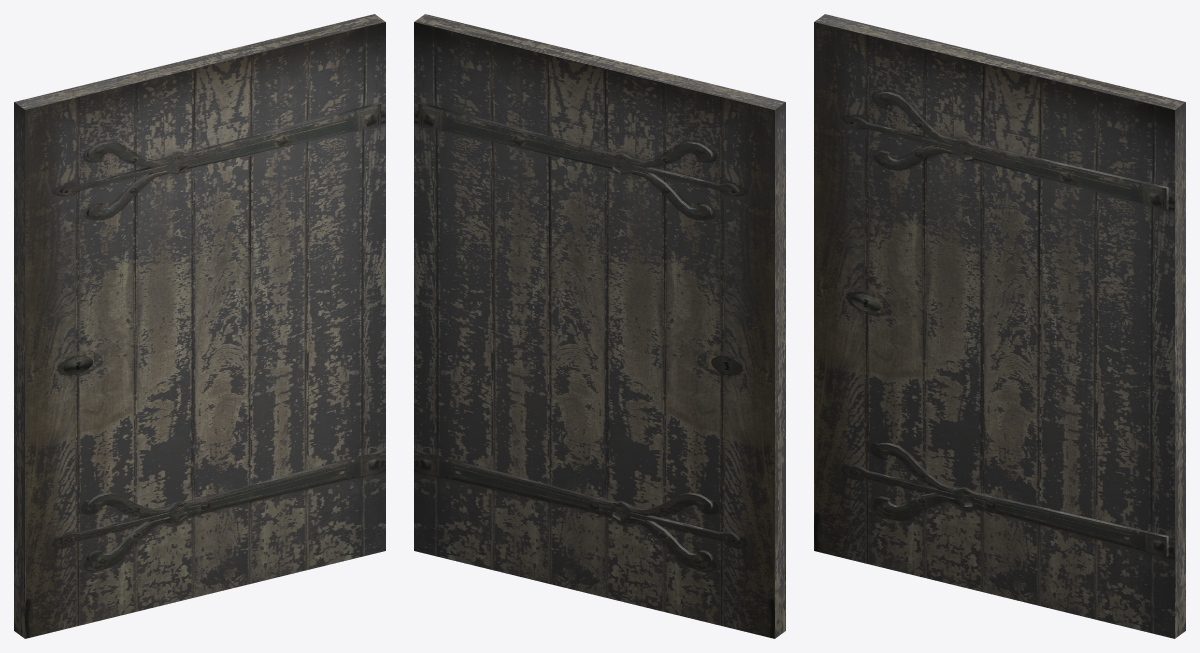
File: Door_B.fbx
3 views of the same model, side by side, from view 1: azimuth 30°, elevation 25°; view 2: azimuth 150°, elevation 25°; view 3: azimuth 330°, elevation 25° (orthographic).
Visible parts, largest first — view 1: Door_B; view 2: Door_B; view 3: Door_B.
Part boxes in pixels (box(x1,y1,x2,y2)): Door_B: box(14, 14, 385, 638); Door_B: box(414, 14, 785, 638); Door_B: box(814, 14, 1185, 638).
Size of the model in its own units: 3.76 by 5.27 by 0.2707.
Materials: 1 (1 with a texture image).
